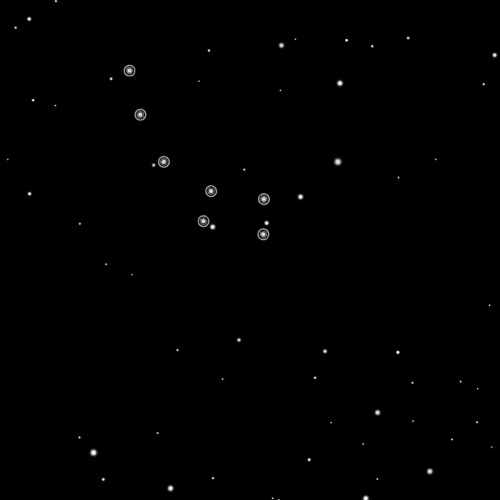ursa_minor: (118, 60, 274, 245)
